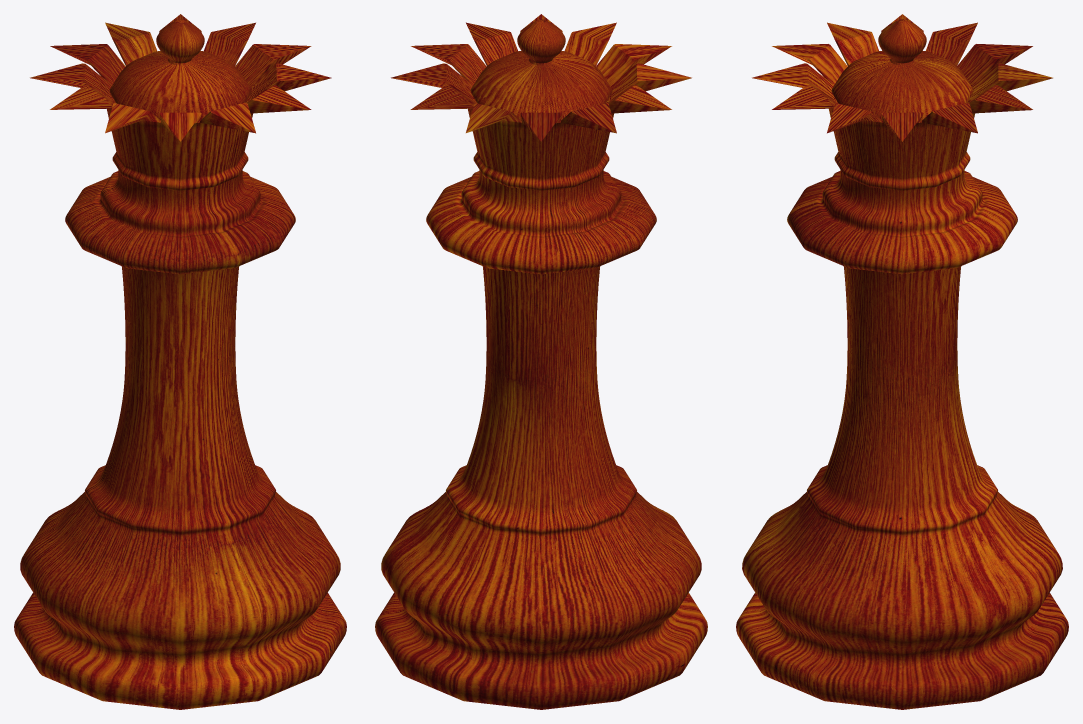
File: queen.gltf
The picture shows the model from 3 angles, left to right: view 1: azimuth 30°, elevation 25°; view 2: azimuth 150°, elevation 25°; view 3: azimuth 270°, elevation 25°; orthographic projection.
Visible parts, largest first — view 1: mesh01; view 2: mesh01; view 3: mesh01.
Boxes of the visible parts, x1,y1,x2,y2 form: mesh01: [14, 14, 346, 709]; mesh01: [375, 14, 707, 709]; mesh01: [736, 14, 1068, 709].
Bounding box in the file's own units: 14.93 × 30.95 × 14.93.
Materials: 1 (1 with a texture image).
